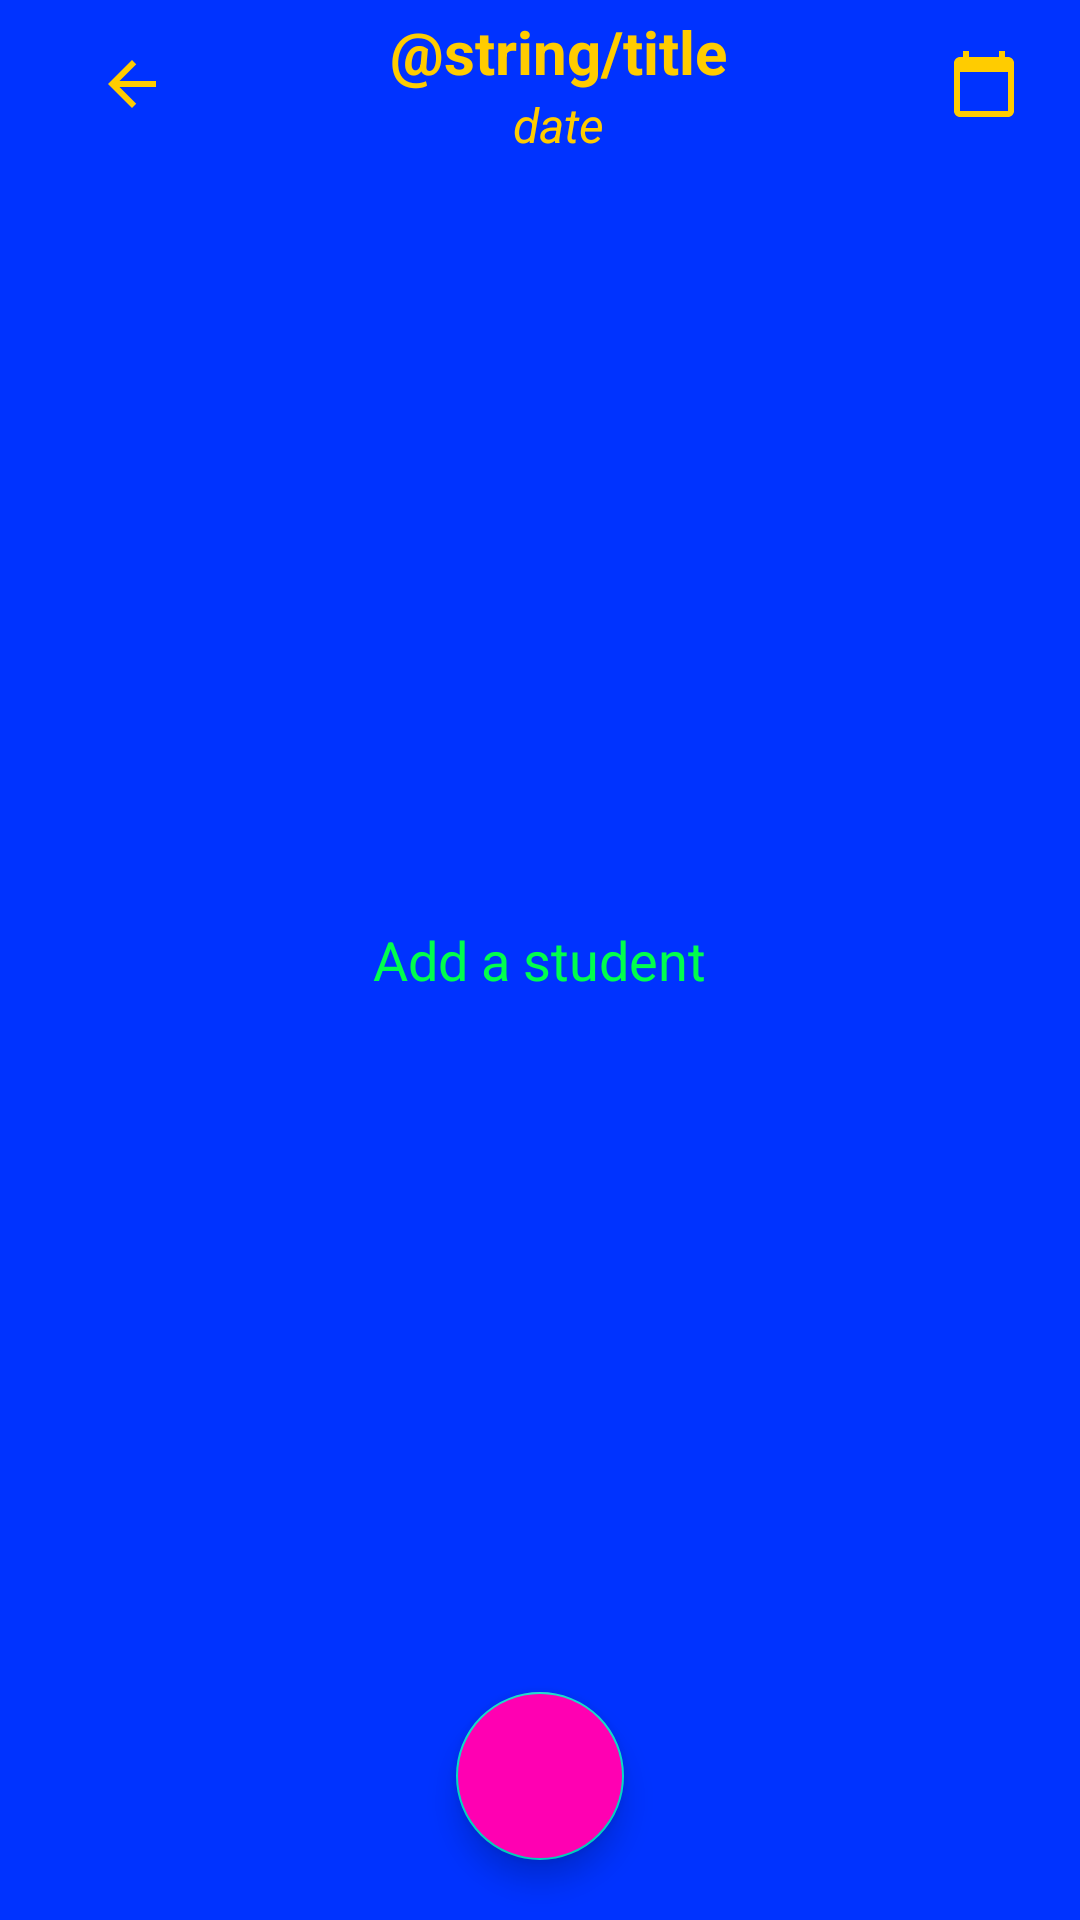

Icons on this 1080×1920 Android screen, each with its box as box=[x1, y1, x2, y2]:
arrow back: box=[108, 60, 156, 108]
calendar: box=[954, 51, 1014, 117]
